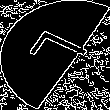L_SE: (18, 29, 92, 81)
